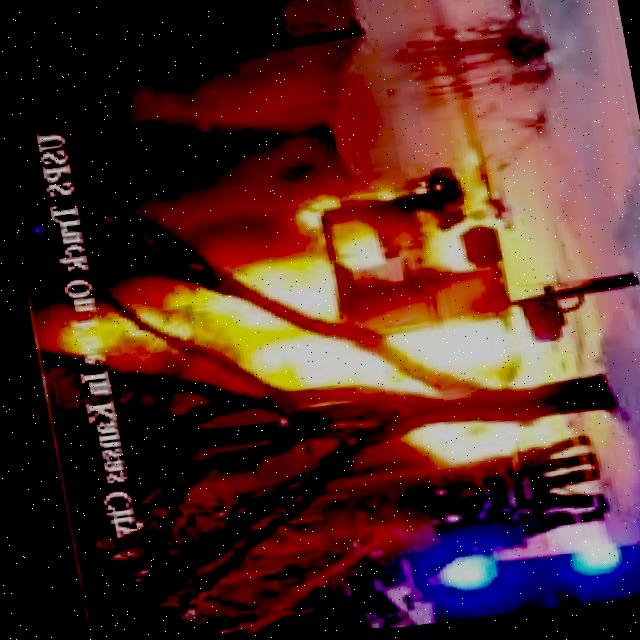Fire: (65, 195, 549, 505)
